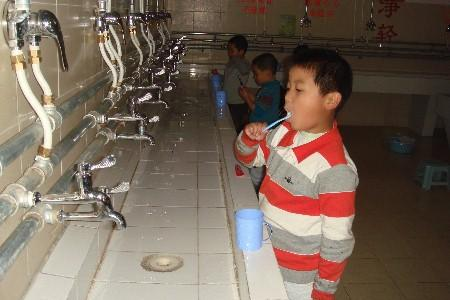person: (234, 48, 360, 300)
